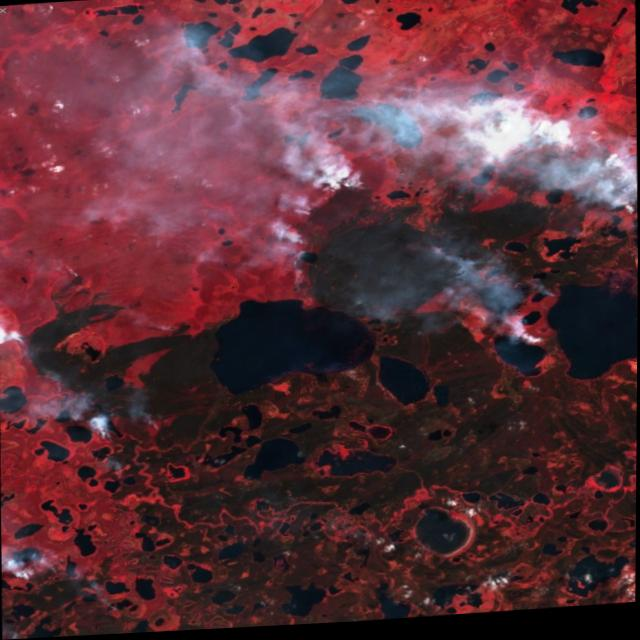fire: (500, 111, 638, 237), (269, 158, 386, 298), (437, 306, 558, 369), (67, 408, 137, 464), (1, 544, 72, 596), (0, 317, 54, 366)
